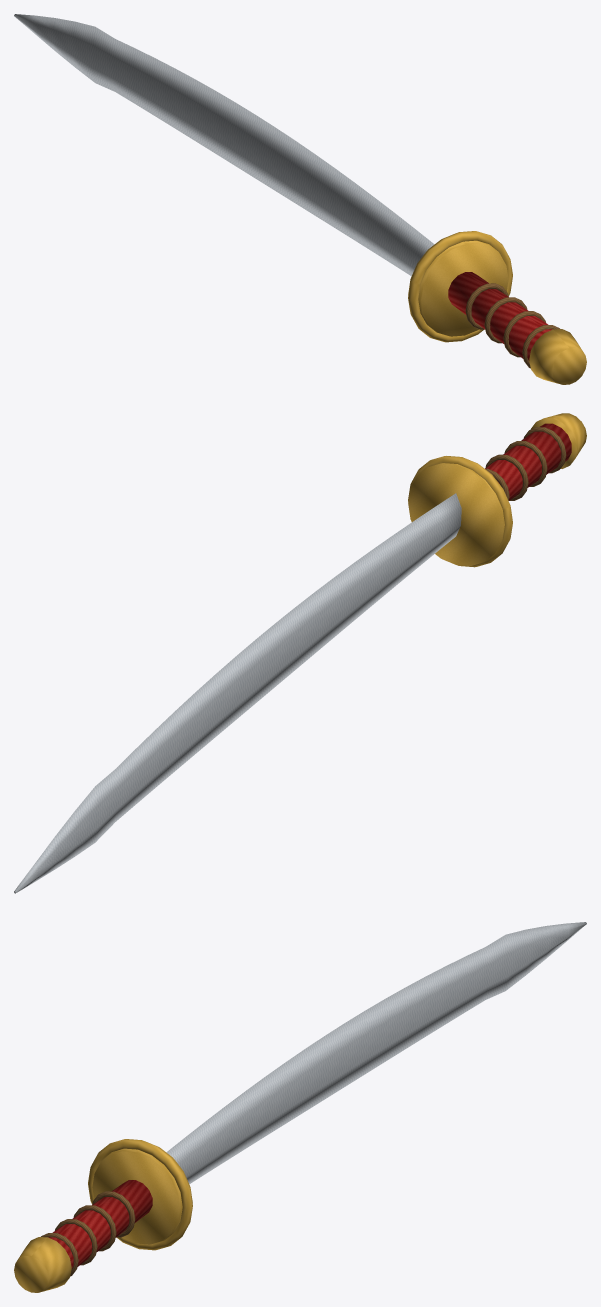
File: kalari_sword.glb
The picture shows the model from 3 angles, top to bottom: view 1: azimuth 30°, elevation 25°; view 2: azimuth 150°, elevation 25°; view 3: azimuth 330°, elevation 25°; orthographic projection.
Parts seen in each view (by area): view 1: Kalari_Val_Sword; view 2: Kalari_Val_Sword; view 3: Kalari_Val_Sword.
Boxes of the visible parts, x1,y1,x2,y2 form: Kalari_Val_Sword: [14, 14, 586, 384]; Kalari_Val_Sword: [14, 413, 586, 893]; Kalari_Val_Sword: [14, 922, 586, 1292].
Bounding box in the file's own units: 0.095 × 0.1034 × 0.88.
4 materials, 4 textured.
